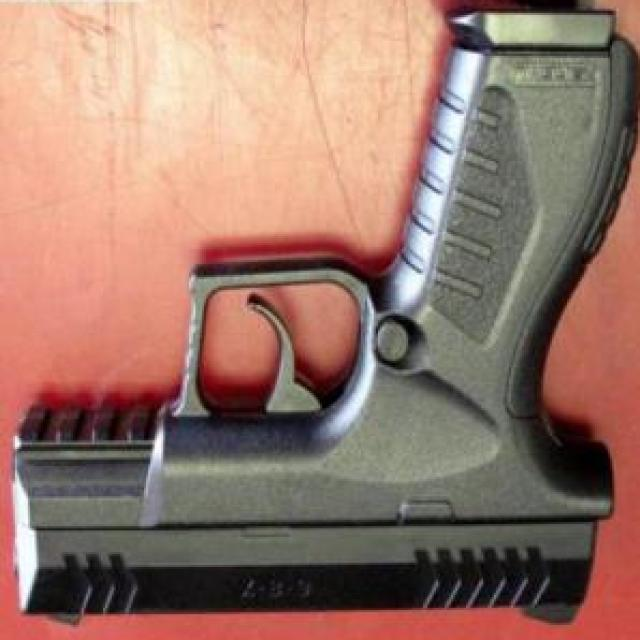pistol: (13, 0, 638, 636)
